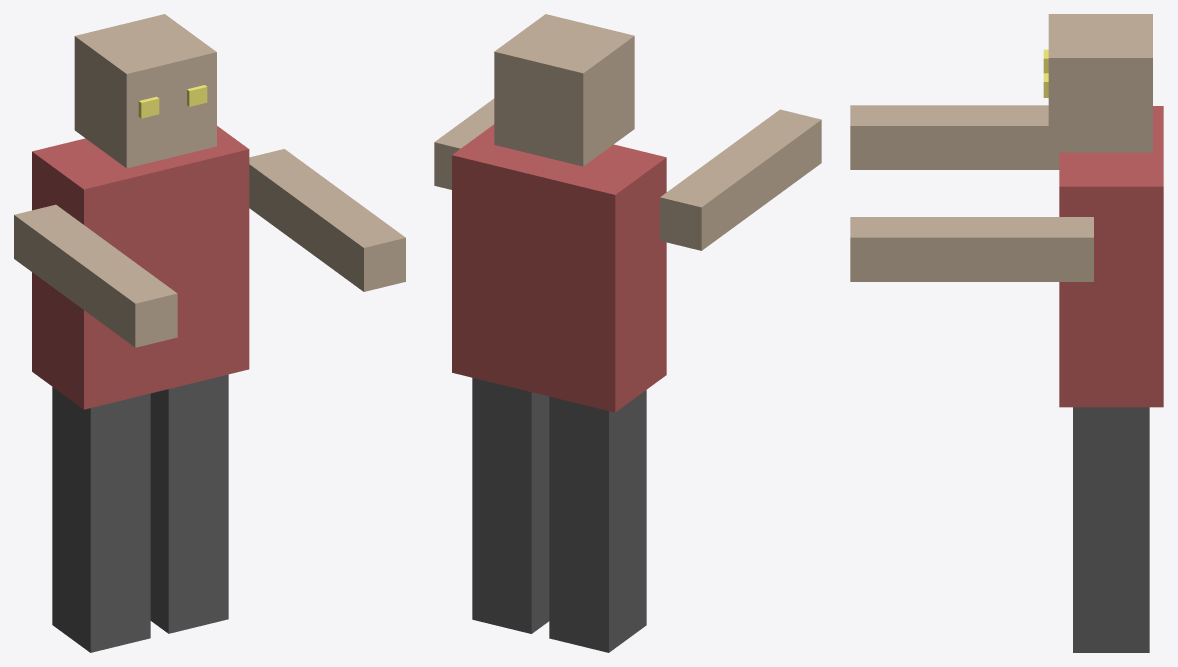
Rendered from zombie_runner.glb.
3 views of the same model, side by side, from view 1: azimuth 30°, elevation 25°; view 2: azimuth 150°, elevation 25°; view 3: azimuth 270°, elevation 25° (orthographic).
Bounding box in the file's own units: 0.9 × 1.85 × 0.9.
